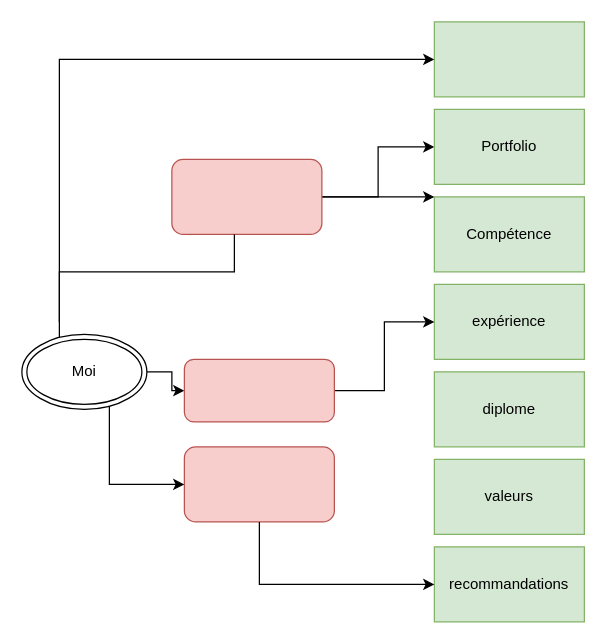
Image size: 606x644. Some labels were removed from this diagram. Here are the shapes that lost their labels. From the top down, the centre of each, then its label:
At point 508,59: "Contact".
At point 246,196: "savoir-faire".
At point 258,390: "savoirs".
At point 258,484: "savoir-etre".
